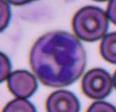N: (29, 31, 86, 86)
